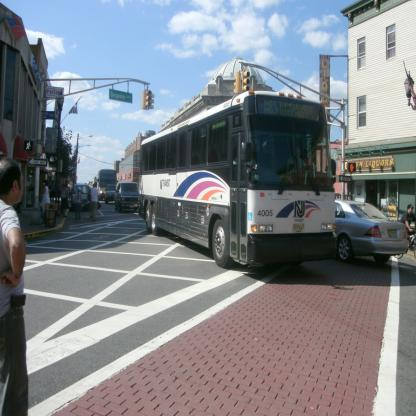Bus: (136, 89, 336, 268), (96, 168, 119, 199)
